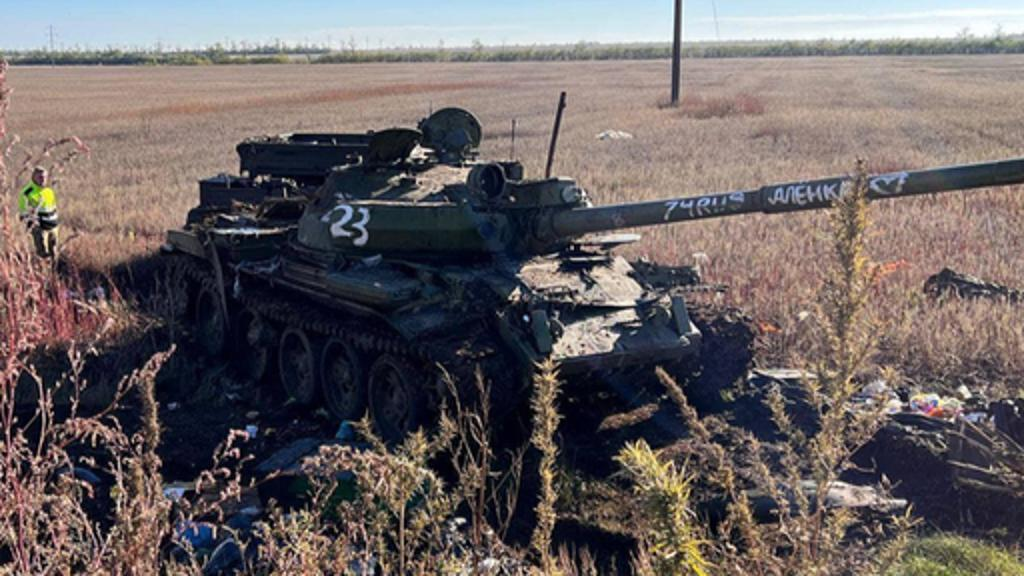TANK: (146, 134, 996, 454)
